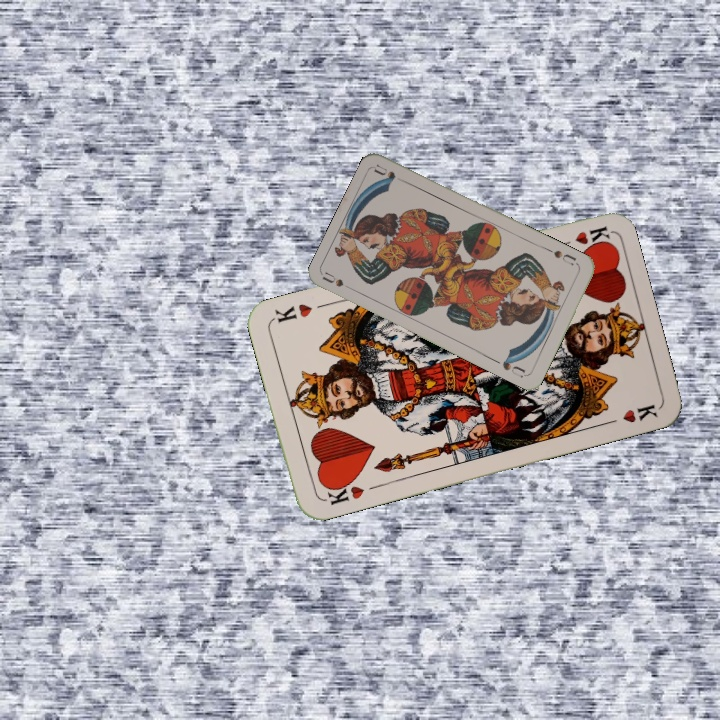HK: (551, 222, 611, 250), (321, 475, 367, 508)
SU: (319, 268, 359, 295), (549, 246, 579, 268)
